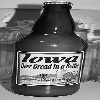beer: (13, 1, 84, 97)
